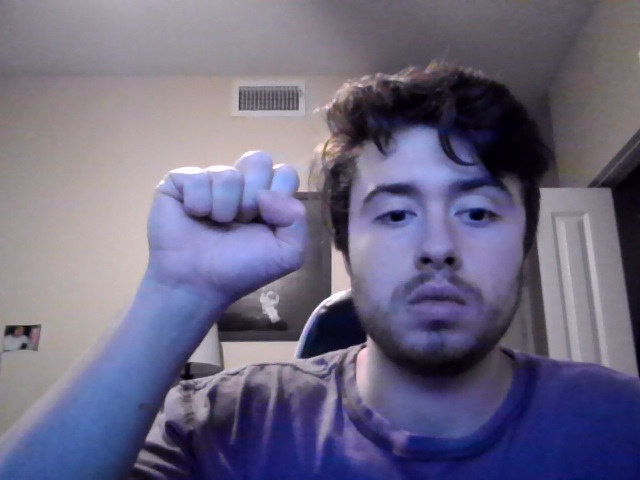s: (145, 148, 308, 347)
